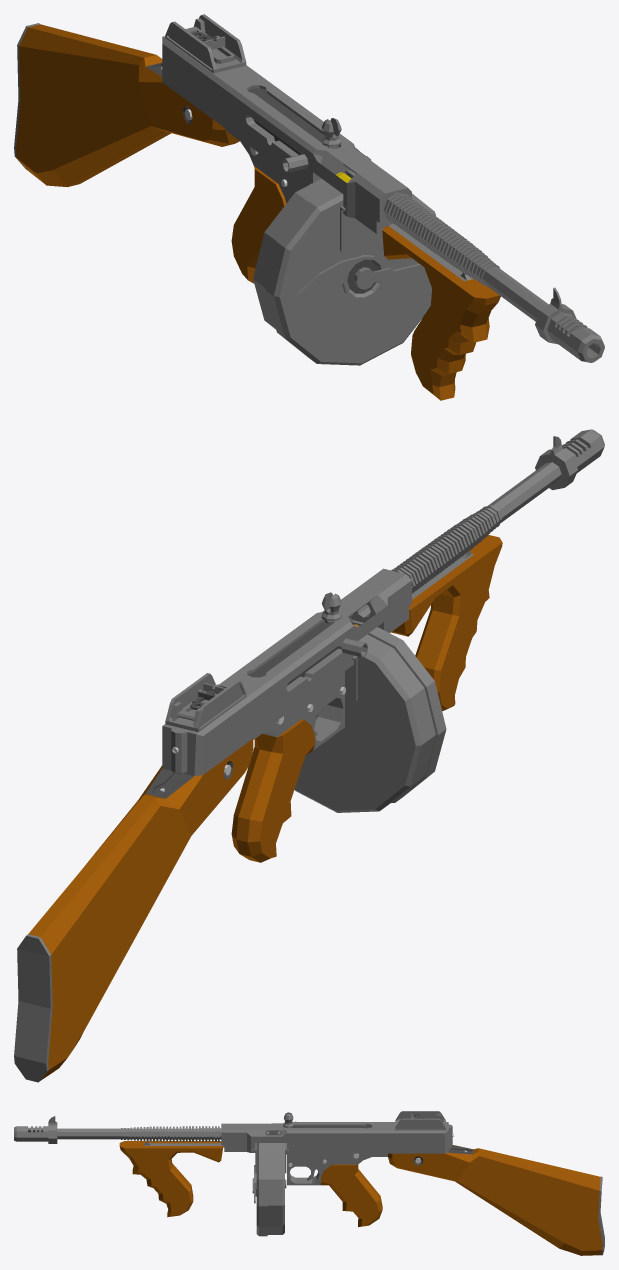
The model's file is Thompson.fbx.
The picture shows the model from 3 angles, top to bottom: view 1: azimuth 30°, elevation 25°; view 2: azimuth 150°, elevation 25°; view 3: azimuth 270°, elevation 25°; orthographic projection. The views are drawn at different scales.
Parts seen in each view (by area): view 1: Thompson, Drum; view 2: Thompson, Drum; view 3: Thompson, Drum.
Part boxes in pixels (bbox=[...]): Thompson: bbox=[14, 14, 604, 400]; Drum: bbox=[253, 170, 435, 365]; Thompson: bbox=[14, 429, 604, 1082]; Drum: bbox=[294, 618, 446, 812]; Thompson: bbox=[14, 1111, 604, 1255]; Drum: bbox=[252, 1143, 288, 1236].
Bounding box in the file's own units: 15.28 × 22.7 × 86.29.
